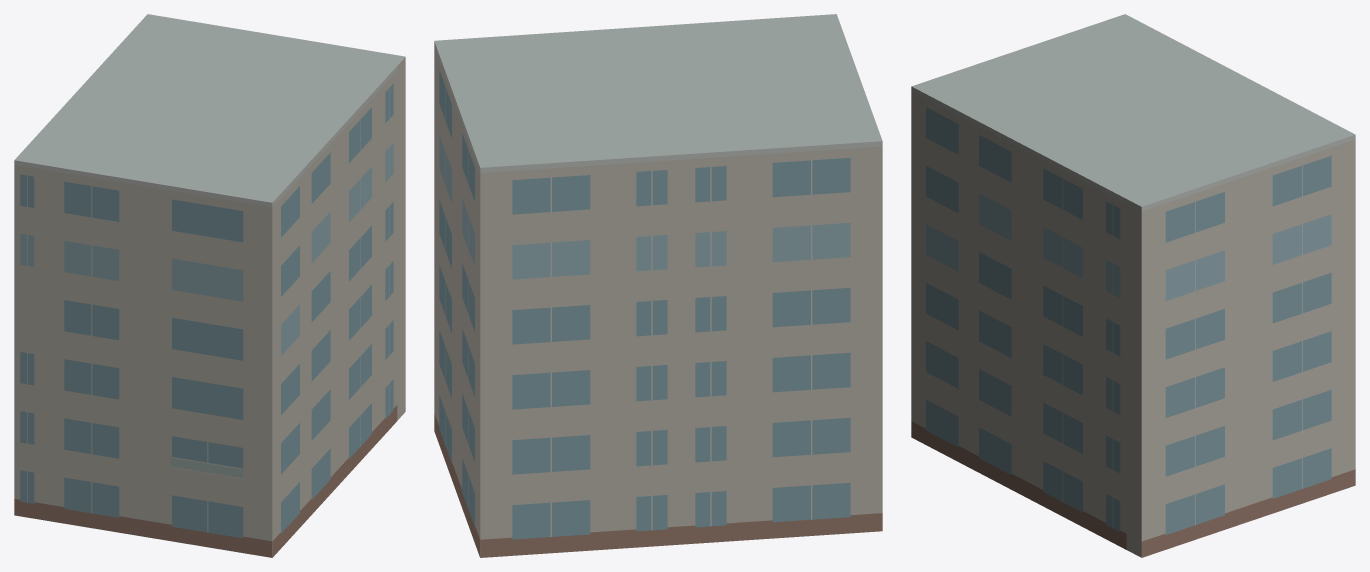
Rendered from survey-upis-32731002.glb.
The picture shows the model from 3 angles, left to right: view 1: azimuth 30°, elevation 25°; view 2: azimuth 150°, elevation 25°; view 3: azimuth 270°, elevation 25°; orthographic projection. The views are drawn at different scales.
Parts seen in each view (by area): view 1: survey-upis-32731002.tmp; view 2: survey-upis-32731002.tmp; view 3: survey-upis-32731002.tmp.
Boxes of the visible parts, x1,y1,x2,y2 form: survey-upis-32731002.tmp: (14,14,405,557); survey-upis-32731002.tmp: (434,14,882,557); survey-upis-32731002.tmp: (911,14,1355,557).
Size of the model in its own units: 21.58 by 18.3 by 21.
